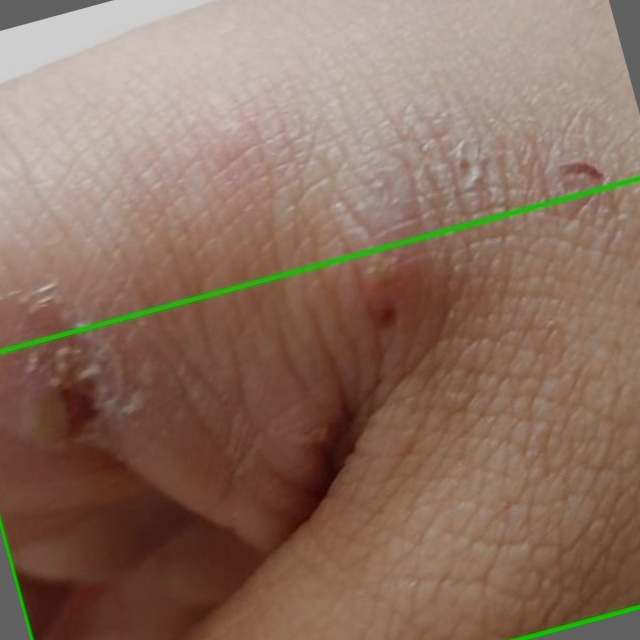Scabies: (0, 178, 639, 639)
